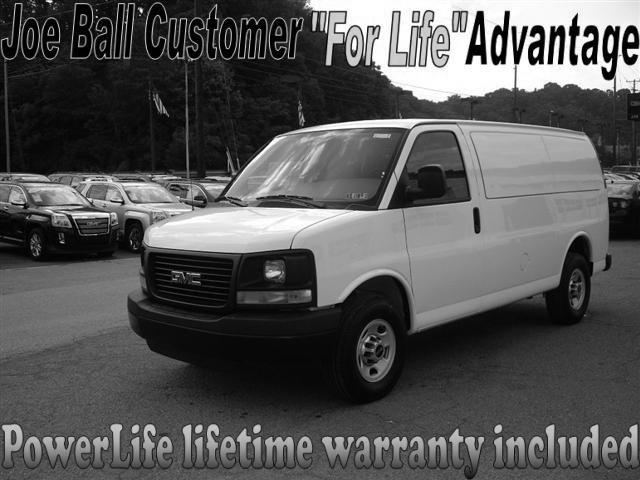car: (127, 117, 616, 408)
